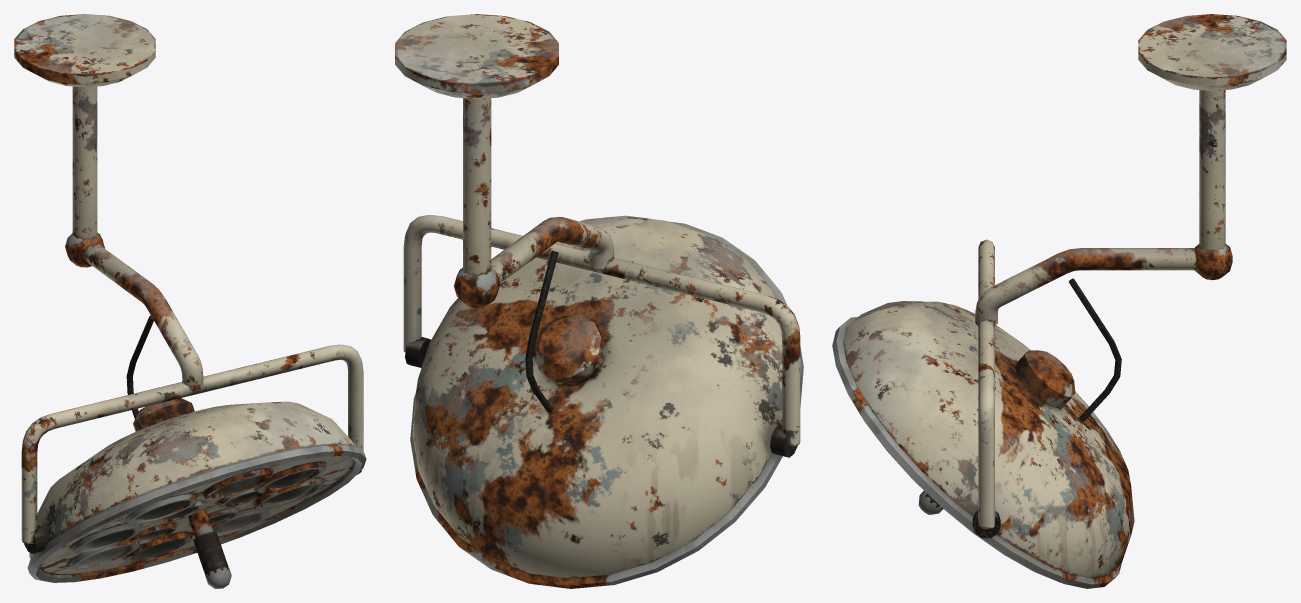
The model's file is SurgicalLamp.fbx.
The picture shows the model from 3 angles, left to right: view 1: azimuth 30°, elevation 25°; view 2: azimuth 150°, elevation 25°; view 3: azimuth 270°, elevation 25°; orthographic projection. The views are drawn at different scales.
Parts seen in each view (by area): view 1: SurgicalLamp; view 2: SurgicalLamp; view 3: SurgicalLamp.
Part boxes in pixels (x1,y1,x2,y2): SurgicalLamp: (14, 14, 366, 588); SurgicalLamp: (395, 14, 803, 588); SurgicalLamp: (832, 14, 1286, 588).
Size of the model in its own units: 2.63 by 3.64 by 2.9.
1 material, 1 textured.
